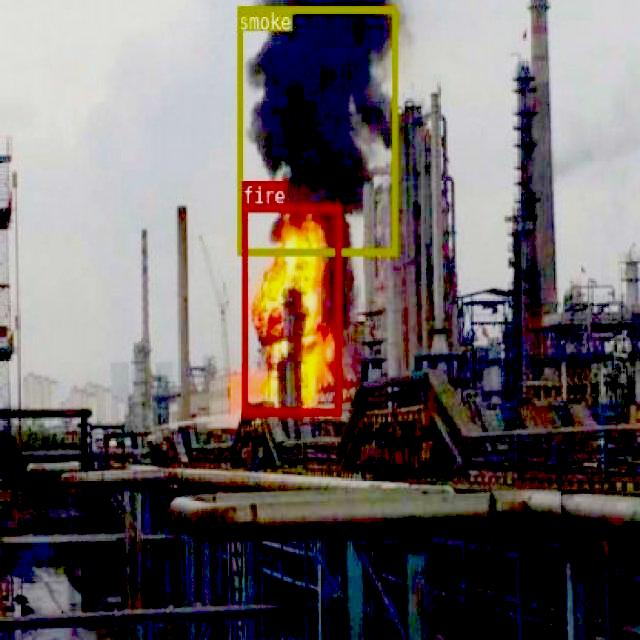fire: (242, 203, 341, 414)
smoke: (236, 6, 396, 254)
